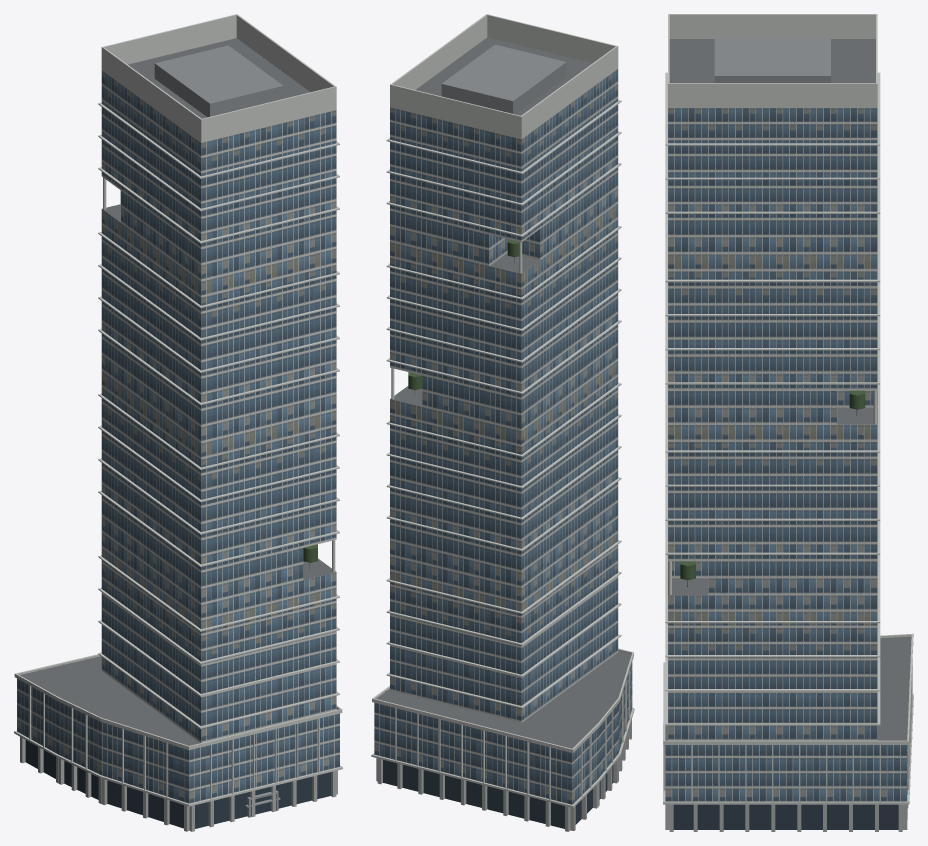
The model's file is park_tower.glb.
The picture shows the model from 3 angles, left to right: view 1: azimuth 30°, elevation 25°; view 2: azimuth 150°, elevation 25°; view 3: azimuth 270°, elevation 25°; orthographic projection. The views are drawn at different scales.
Visible parts, largest first — view 1: park_tower; view 2: park_tower; view 3: park_tower.
Boxes of the visible parts, box(x1,y1,x2,y2) form: park_tower: box(14, 14, 342, 831); park_tower: box(371, 14, 634, 831); park_tower: box(663, 14, 913, 831).
Bounding box in the file's own units: 57.06 × 184 × 56.
Materials: 2 (2 with a texture image).
